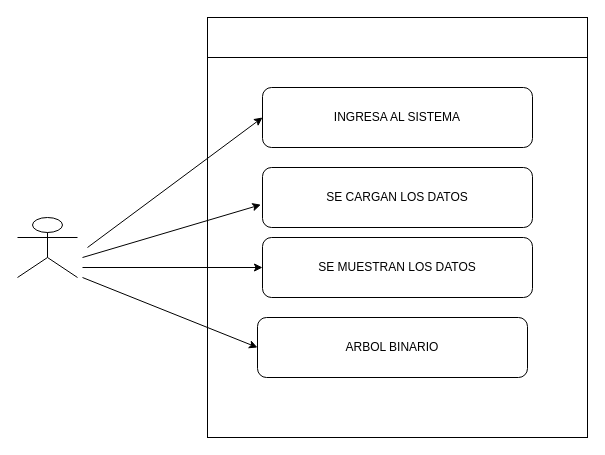
This 605x455 diagram has some shape labels left out. Each missing label, with the centre of its shape:
Actor: (47,247)
APLICACION: (397,37)
